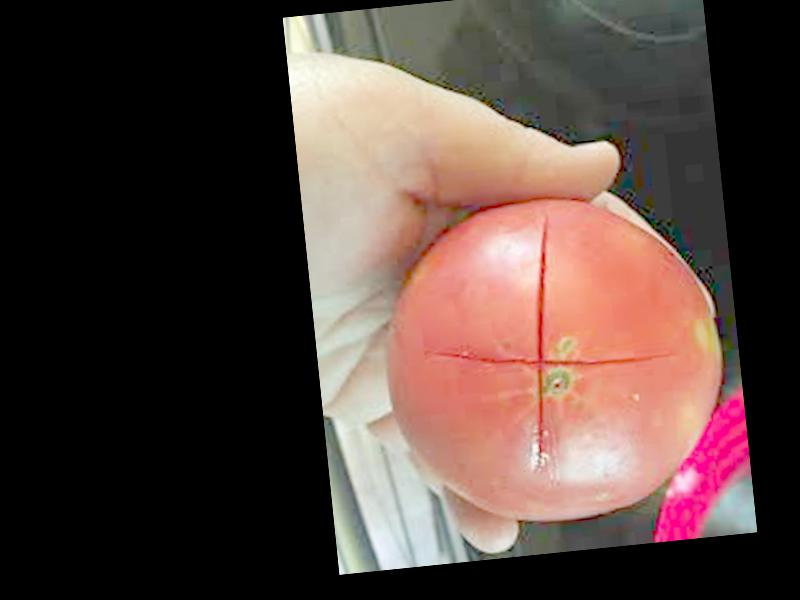Tomato: (370, 181, 734, 538)
